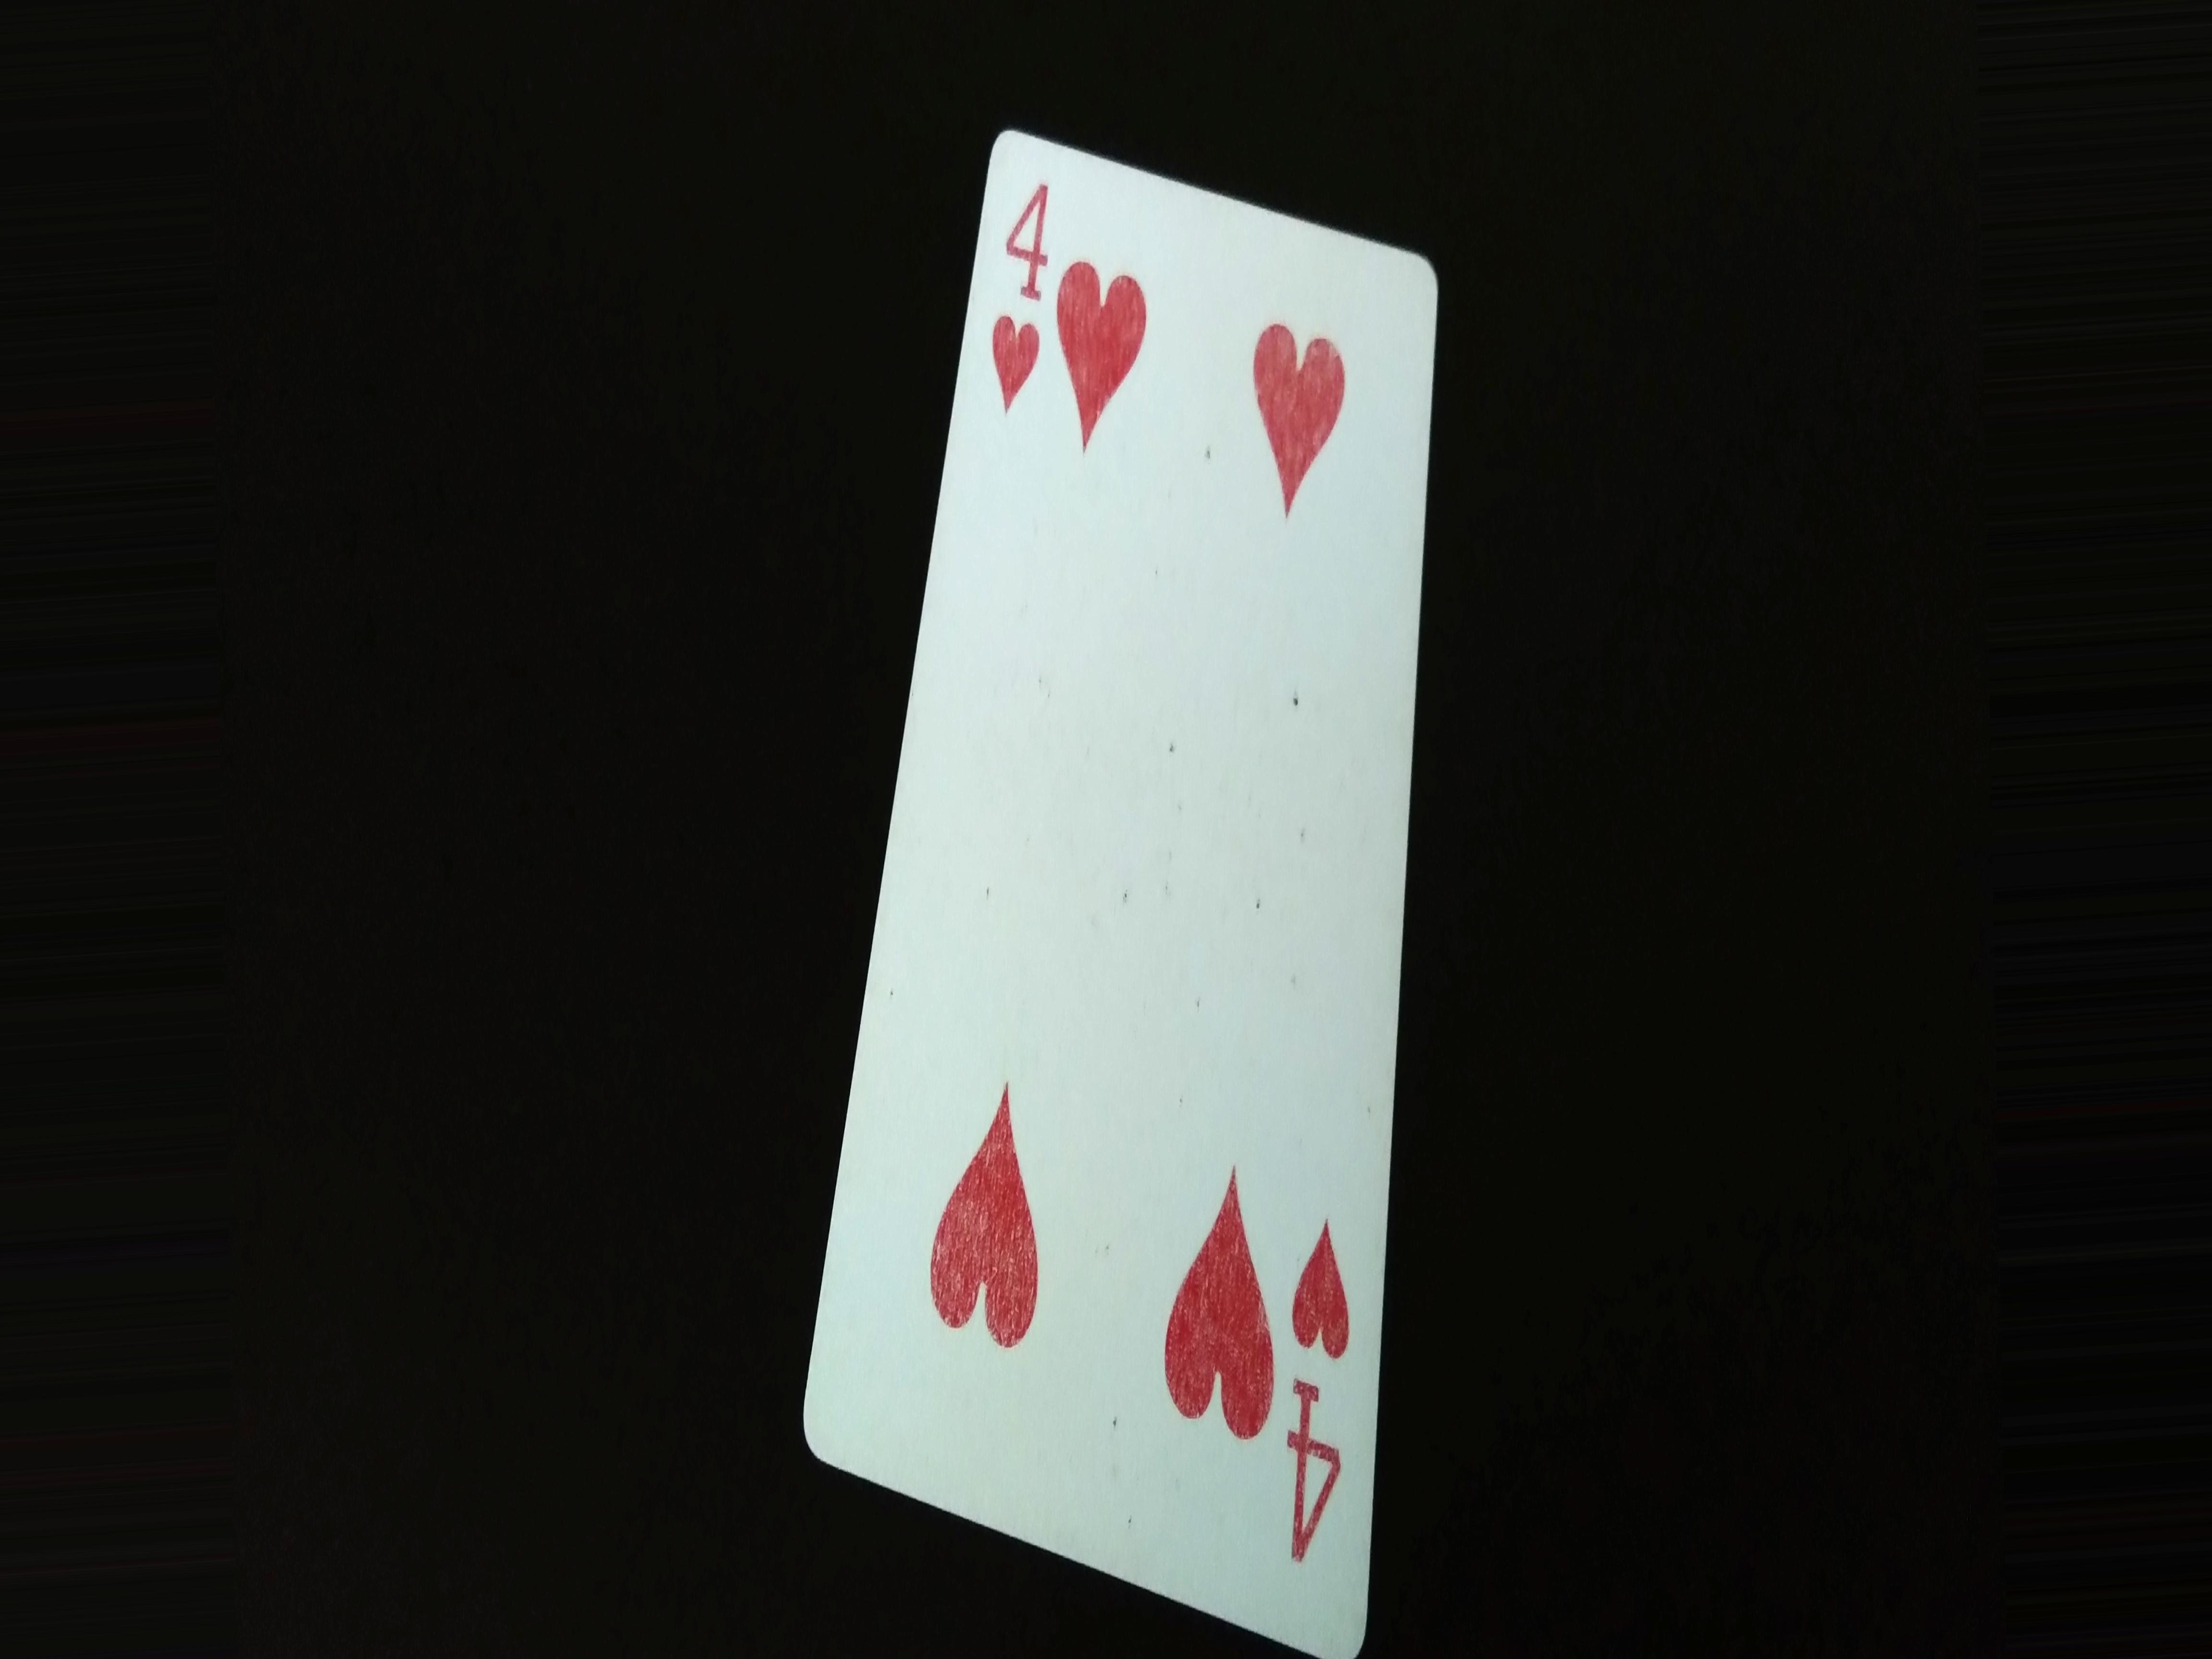4H: (1296, 1215, 1353, 1586)
